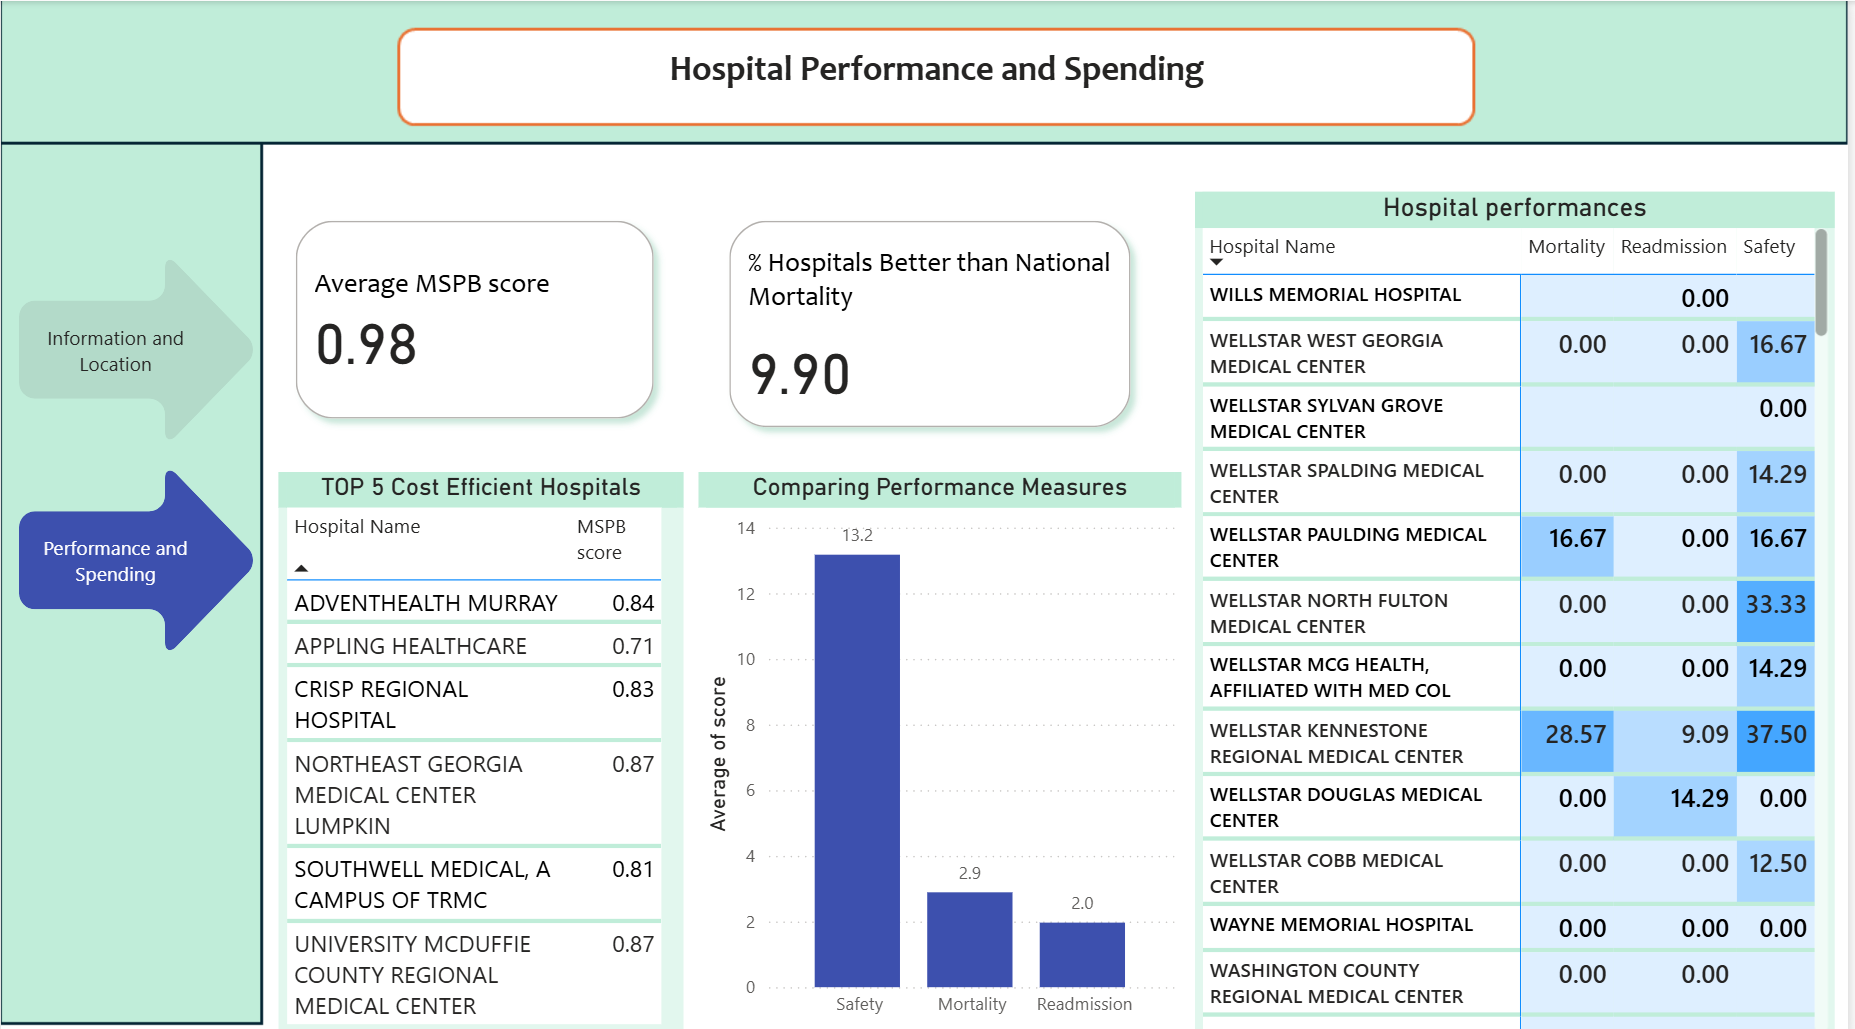

What the dashboard file says about the page in this screenshot:
{"tool":"powerbi","page":{"name":"Performance and Spending","canvas":[1280,720],"ordinal":1},"visuals":[{"type":"clusteredColumnChart","title":"Comparing Performance Measures","fields":{"Category":["Query1.measure_type"],"Y":["Avg(Query1.score)"]},"box":[483.4,326.4,334.7,386.7],"z":0},{"type":"cardVisual","fields":{"Data":["Avg(hospital mspb.score)"]},"box":[192.5,140,272.5,161.2],"z":1000},{"type":"pivotTable","title":"Hospital performances","fields":{"Rows":["unionall.facility_name"],"Columns":["unionall.measure_type"],"Values":["Avg(unionall.score)"]},"box":[827.7,132.5,443.4,588],"z":2000},{"type":"cardVisual","fields":{"Data":["Avg(Query1.pct_hospitals_better_mort)"]},"box":[492.5,140,302.5,167.5],"z":3000},{"type":"tableEx","title":"TOP 5 Cost Efficient Hospitals","fields":{"Values":["cost efficient hospitals.facility_name","Sum(cost efficient hospitals.score)"]},"box":[192.8,326.5,280.7,394],"z":4000},{"type":"textbox","box":[280,27.5,737.5,45],"z":5000},{"type":"pageNavigator","box":[12.5,173.8,167.5,283.8],"z":6000}]}

Visuals, with their boxes in screenshot pixels (x1, y1, x2, y2), scaled from the page's 1280x720 canvas onto the 1855x1029 screenshot:
"Comparing Performance Measures" clusteredColumnChart: x1=701 y1=466 x2=1186 y2=1019
cardVisual - Avg(hospital mspb.score): x1=279 y1=200 x2=674 y2=430
"Hospital performances" pivotTable: x1=1200 y1=189 x2=1842 y2=1028
cardVisual - Avg(Query1.pct_hospitals_better_mort): x1=714 y1=200 x2=1152 y2=439
"TOP 5 Cost Efficient Hospitals" tableEx: x1=279 y1=467 x2=686 y2=1028
textbox: x1=406 y1=39 x2=1475 y2=104
pageNavigator: x1=18 y1=248 x2=261 y2=654
